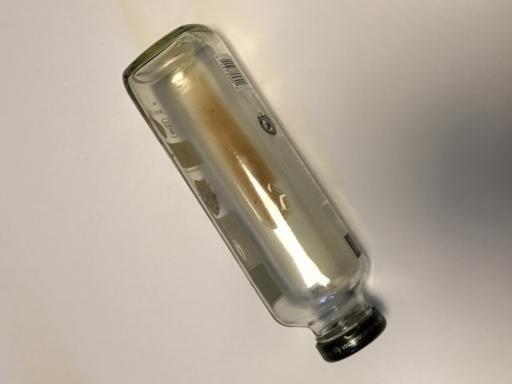botolkaca: (122, 25, 386, 362)
